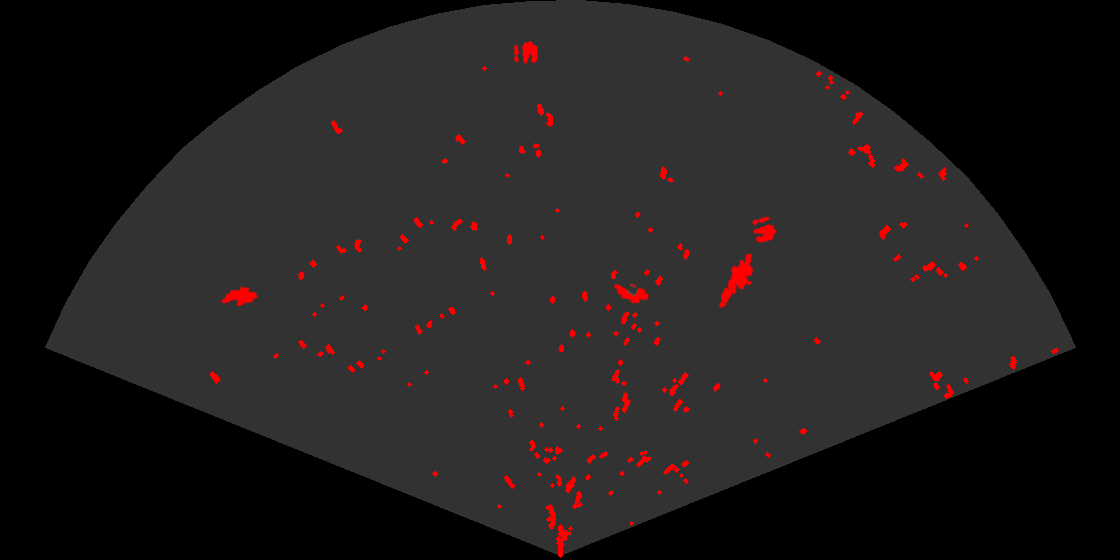AUV: (219, 285, 260, 308), (612, 282, 651, 305)
ball: (750, 215, 778, 244), (512, 40, 539, 66)
frogman: (717, 254, 755, 310)
